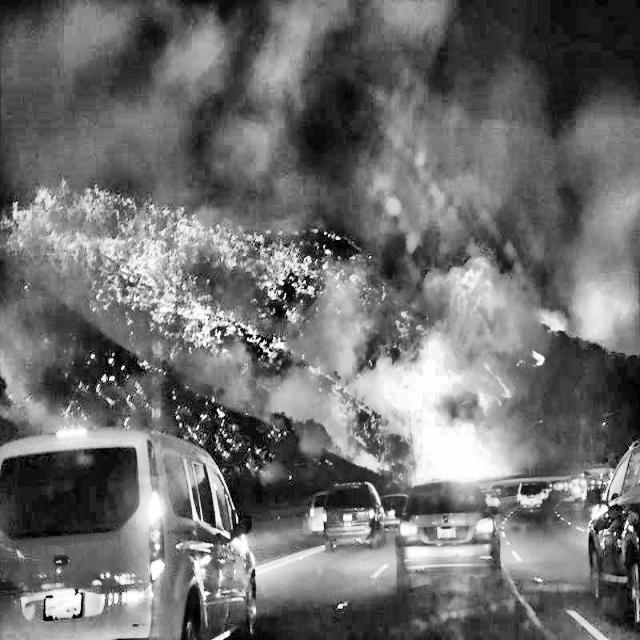fire: (298, 138, 636, 538), (74, 122, 306, 465)
